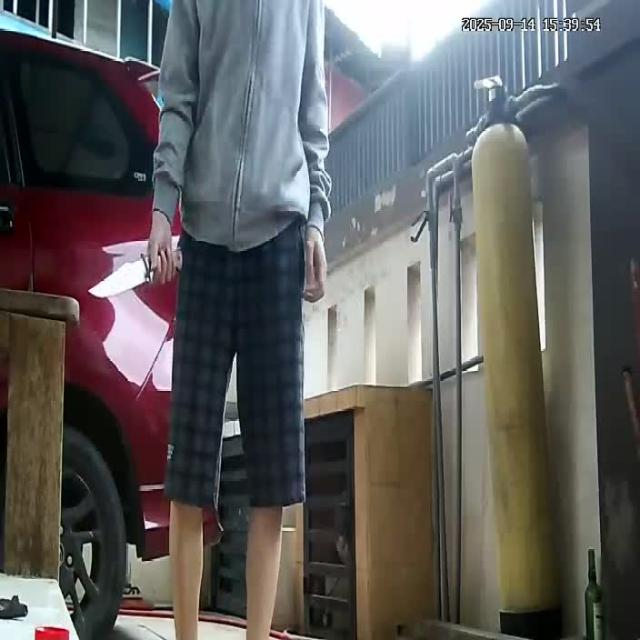senjata_tajam: (86, 254, 150, 300)
